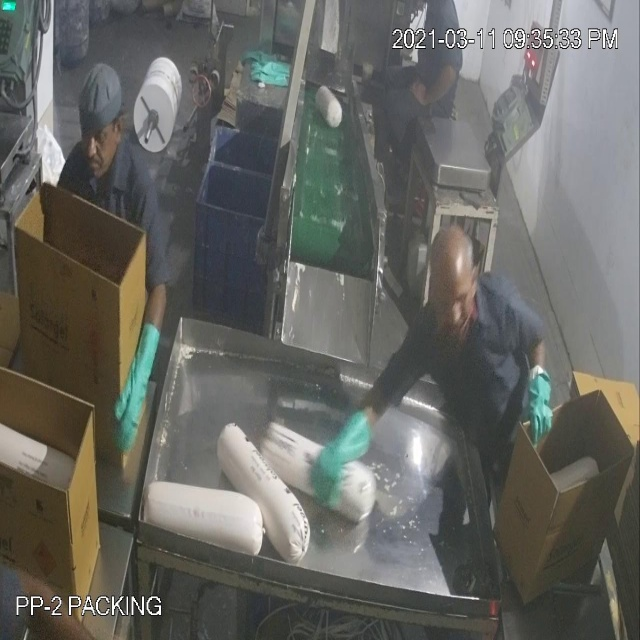Sin_guantes: (401, 54, 458, 120)
